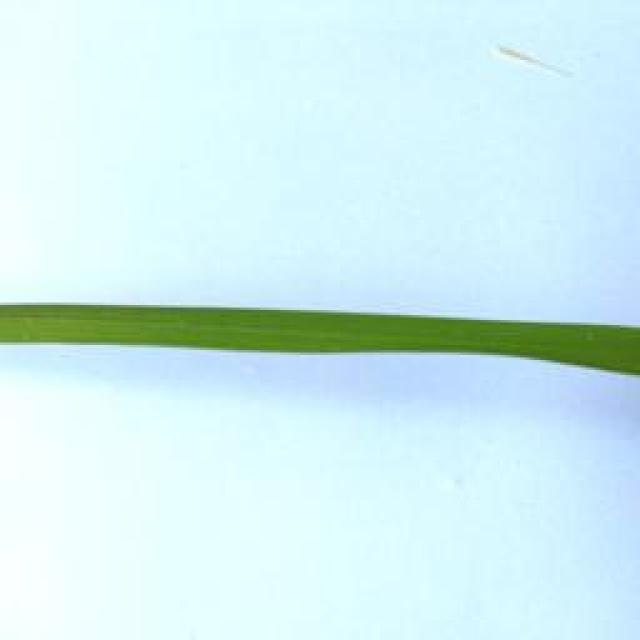Healthy: (0, 305, 640, 378)
